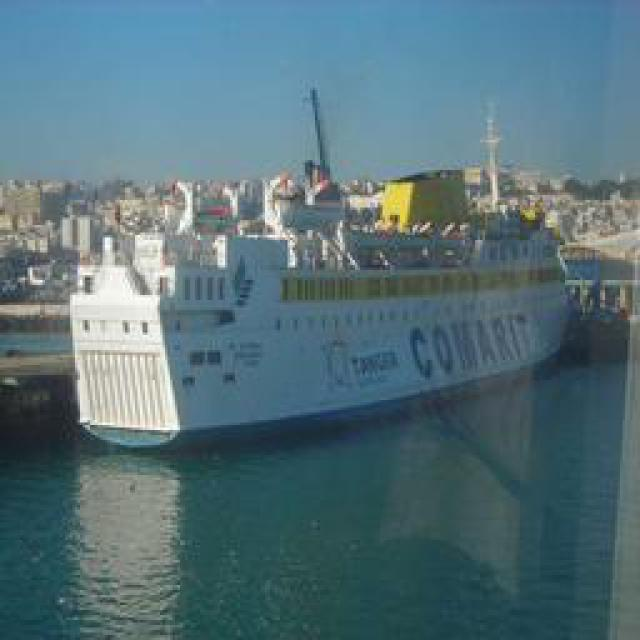Ship: (50, 116, 575, 446)
